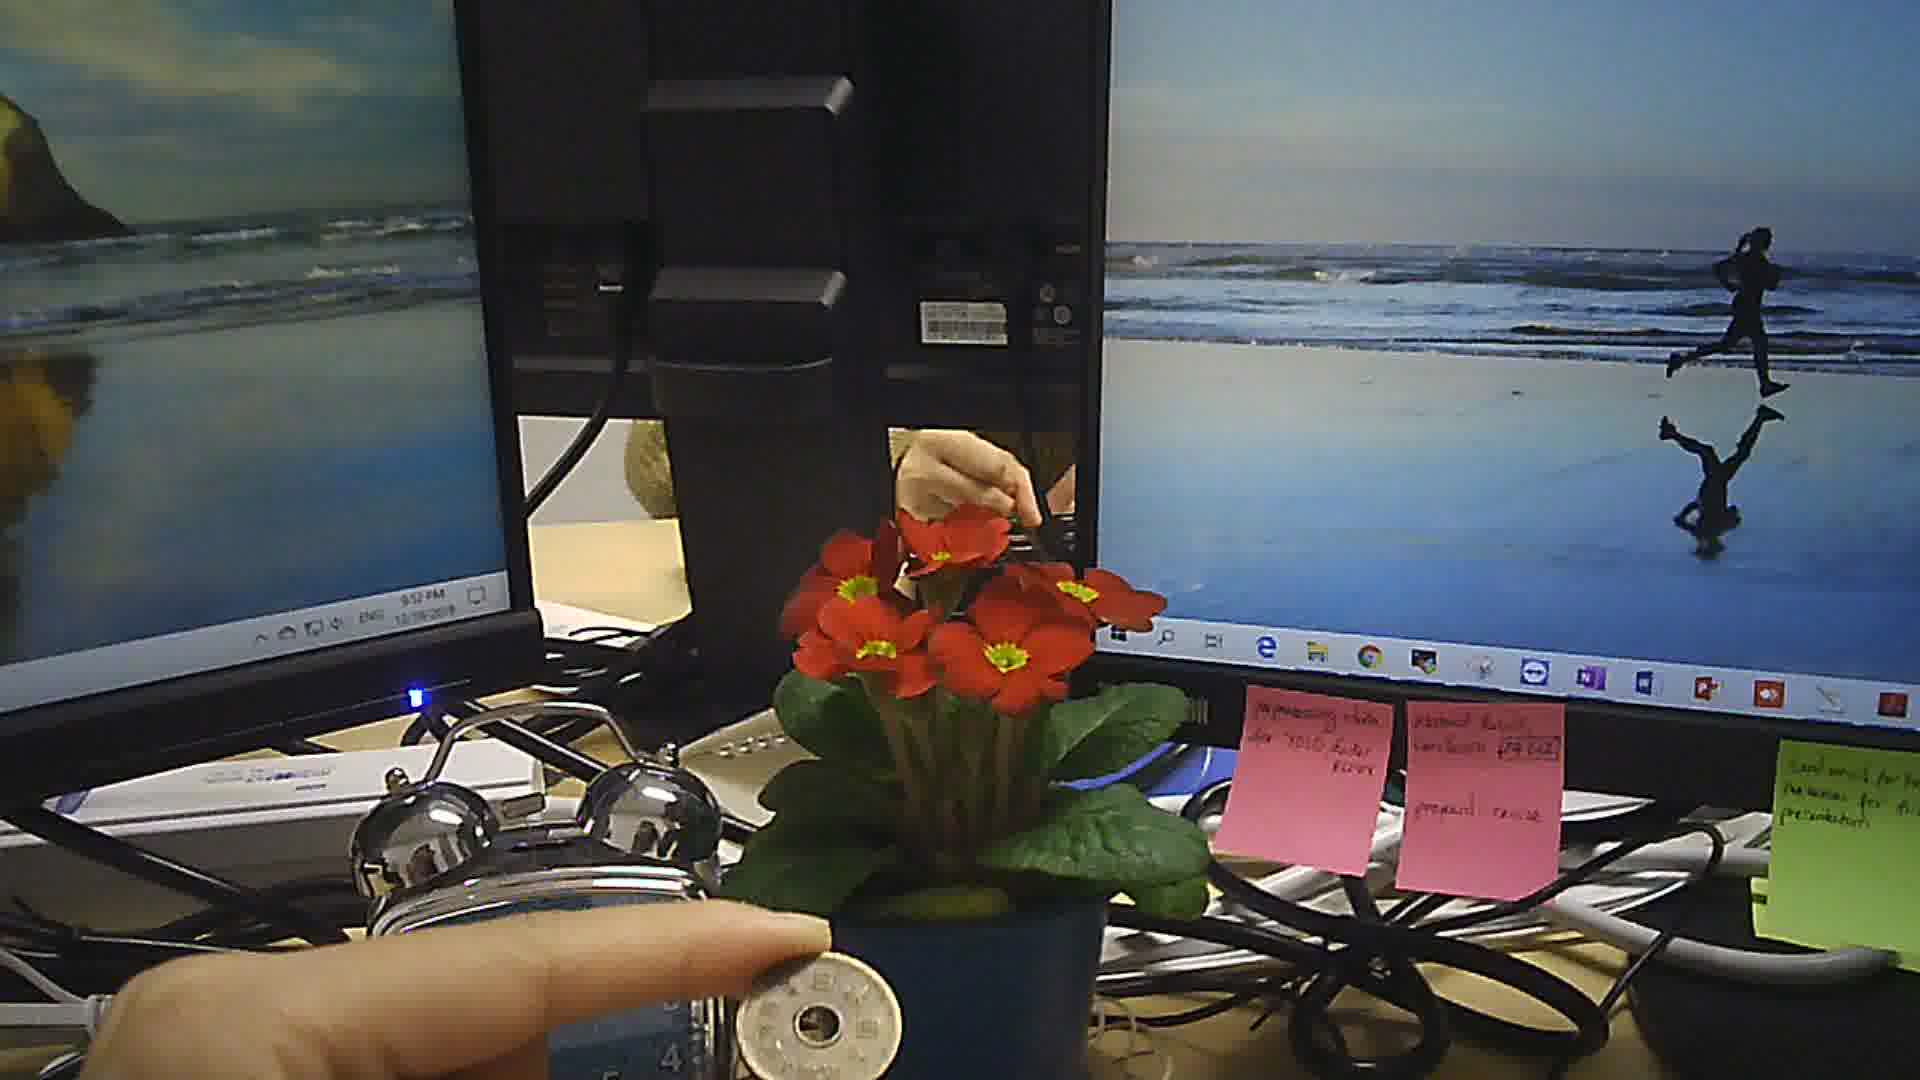5 Yen: (729, 945, 909, 1079)
